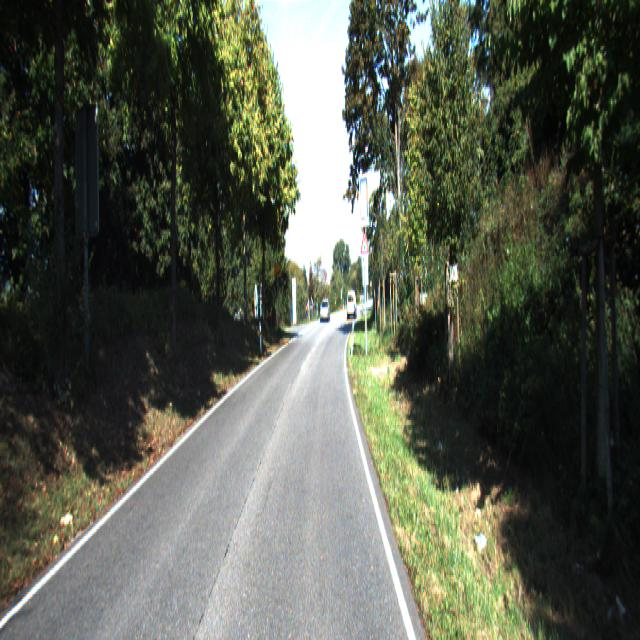Car: (346, 290, 356, 319), (320, 298, 330, 322)
